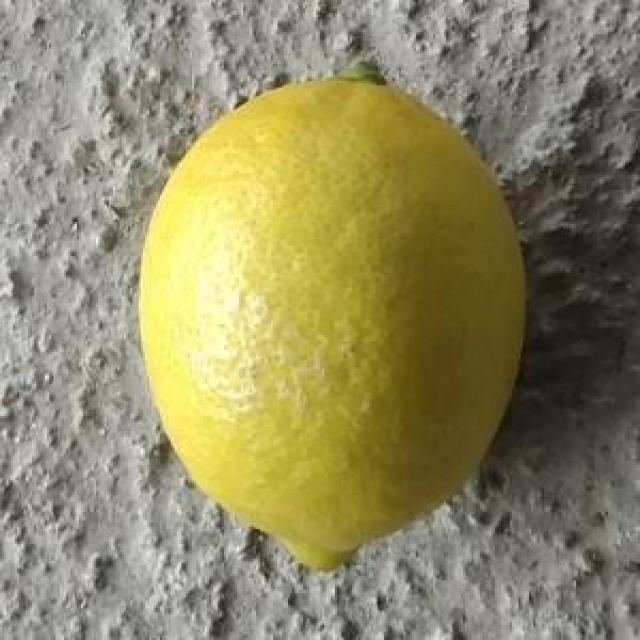lemon: (133, 52, 534, 578)
